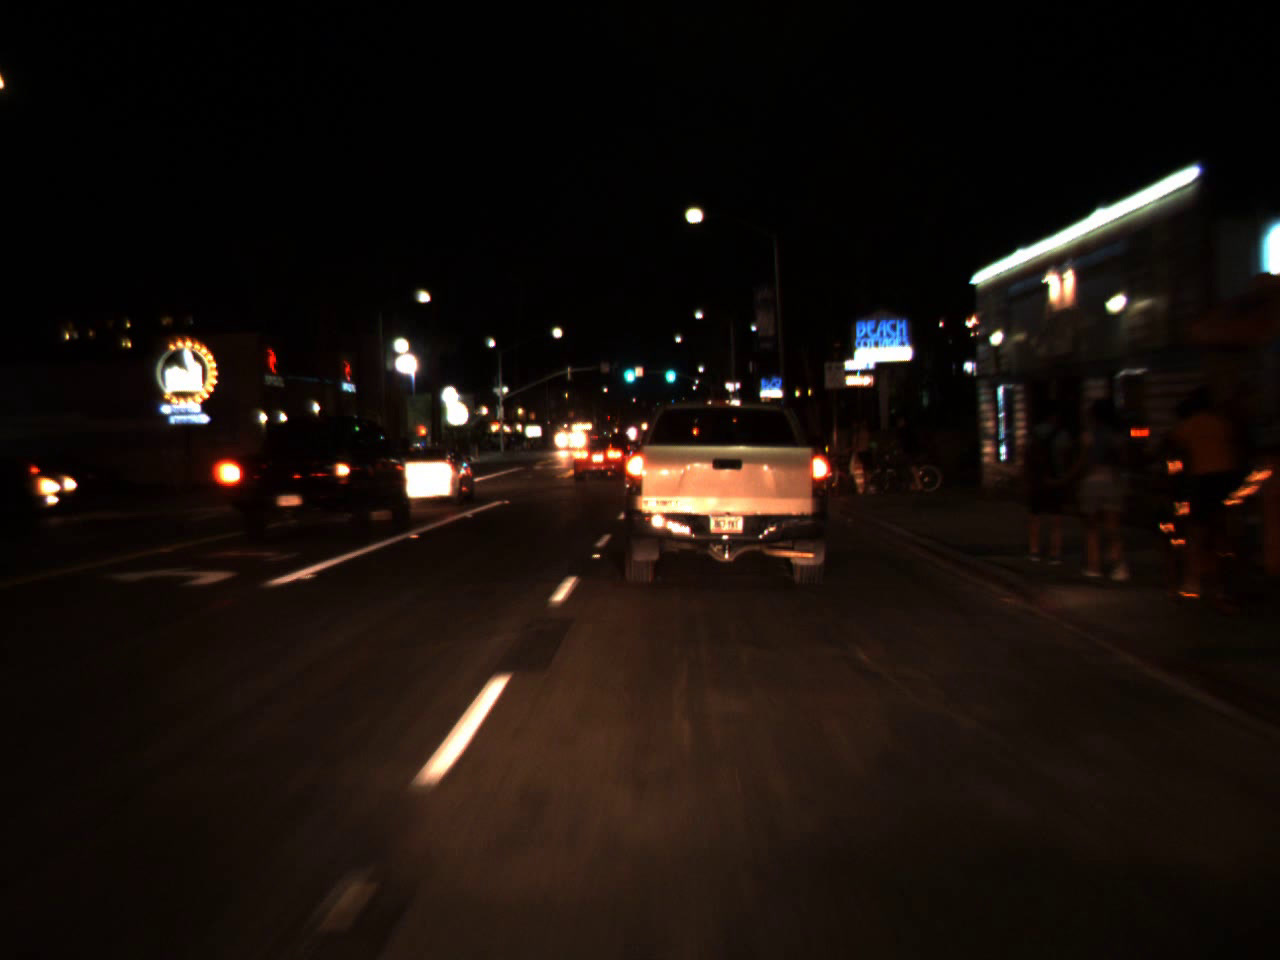go: (618, 352, 637, 388), (661, 354, 677, 387)
